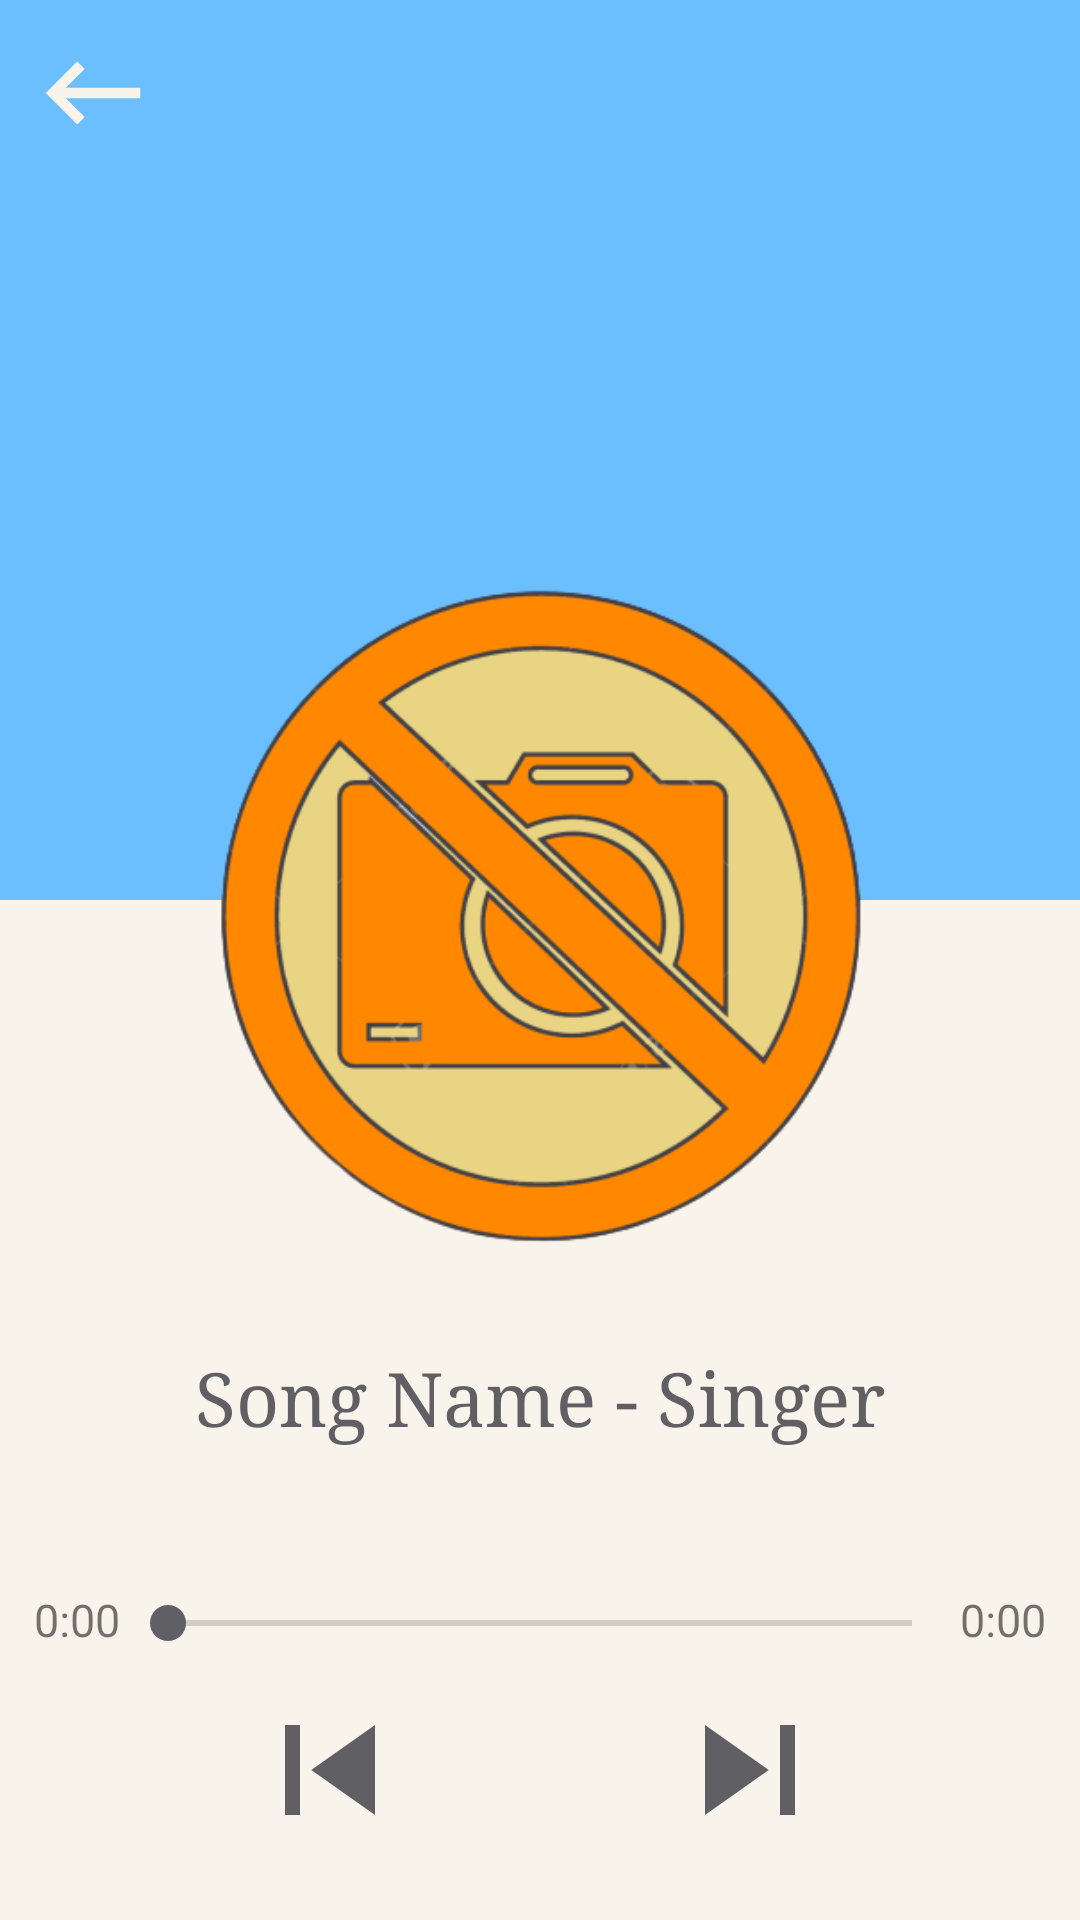

Where to tap for icons on this 1080×1920 app screen, as point (x, y):
backpress: point (93, 93)
nextimg: point (750, 1770)
previousimg: point (330, 1770)
